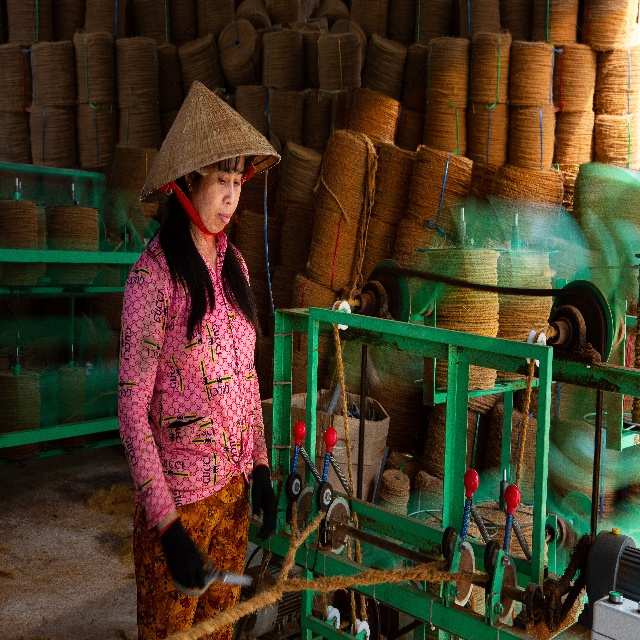Guantes: (156, 511, 207, 588), (249, 460, 278, 544)
